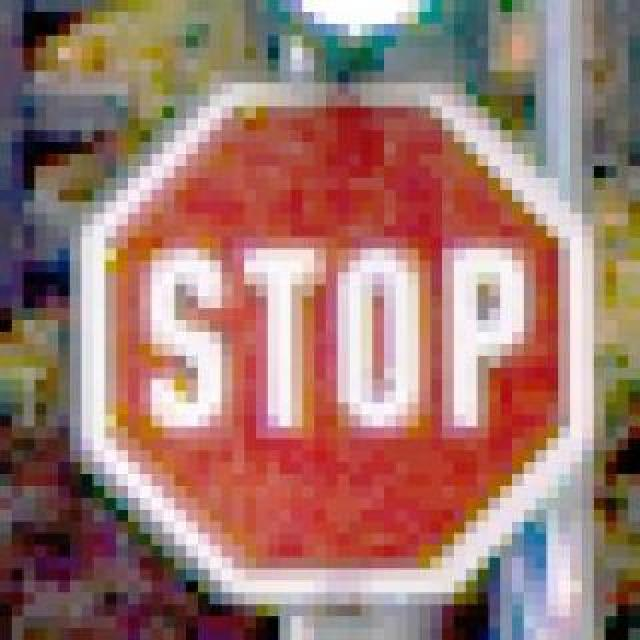stop: (58, 72, 582, 594)
